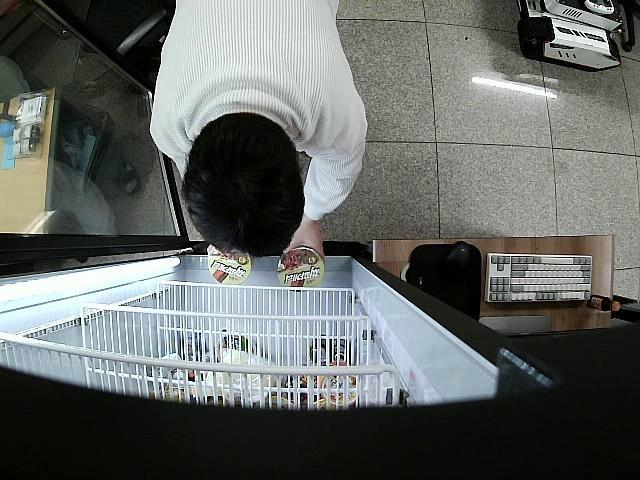03_chapagetti_L: (278, 248, 324, 292)
